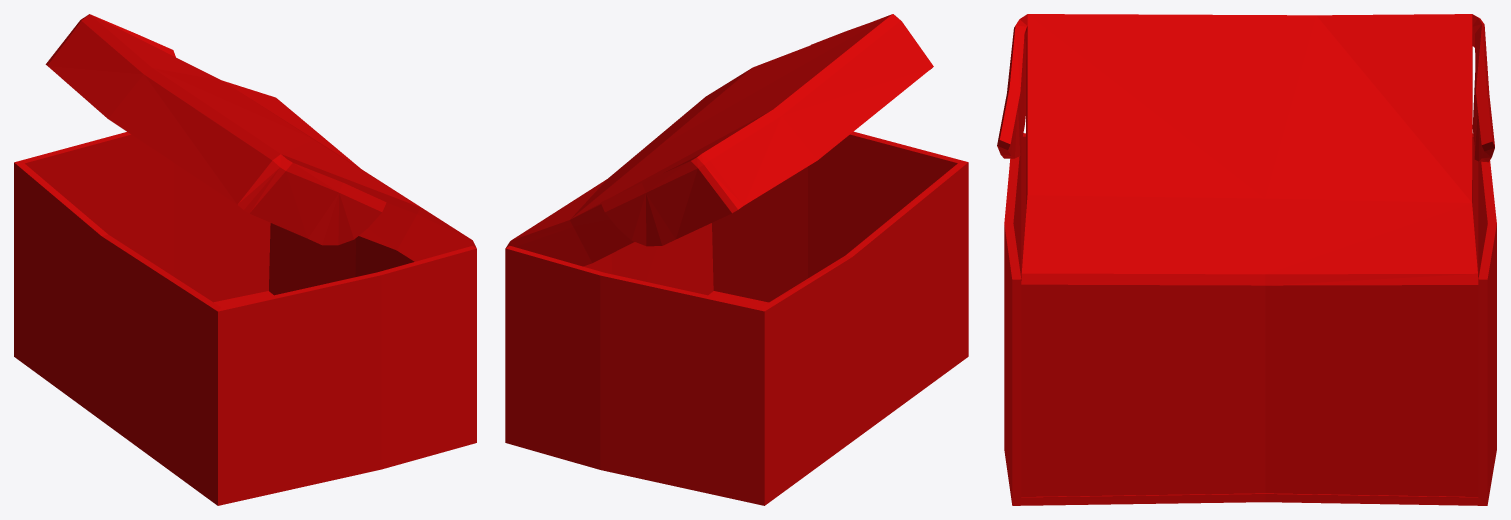
The picture shows the model from 3 angles, left to right: view 1: azimuth 30°, elevation 25°; view 2: azimuth 150°, elevation 25°; view 3: azimuth 270°, elevation 25°; orthographic projection. The views are drawn at different scales.
Parts seen in each view (by area): view 1: Mesh; view 2: Mesh; view 3: Mesh.
Boxes of the visible parts, left/top/right/bottom form: Mesh: left=14, top=14, right=476, bottom=505; Mesh: left=505, top=14, right=968, bottom=505; Mesh: left=997, top=14, right=1496, bottom=505.
Size of the model in its own units: 0.616 by 0.7413 by 0.8737.
